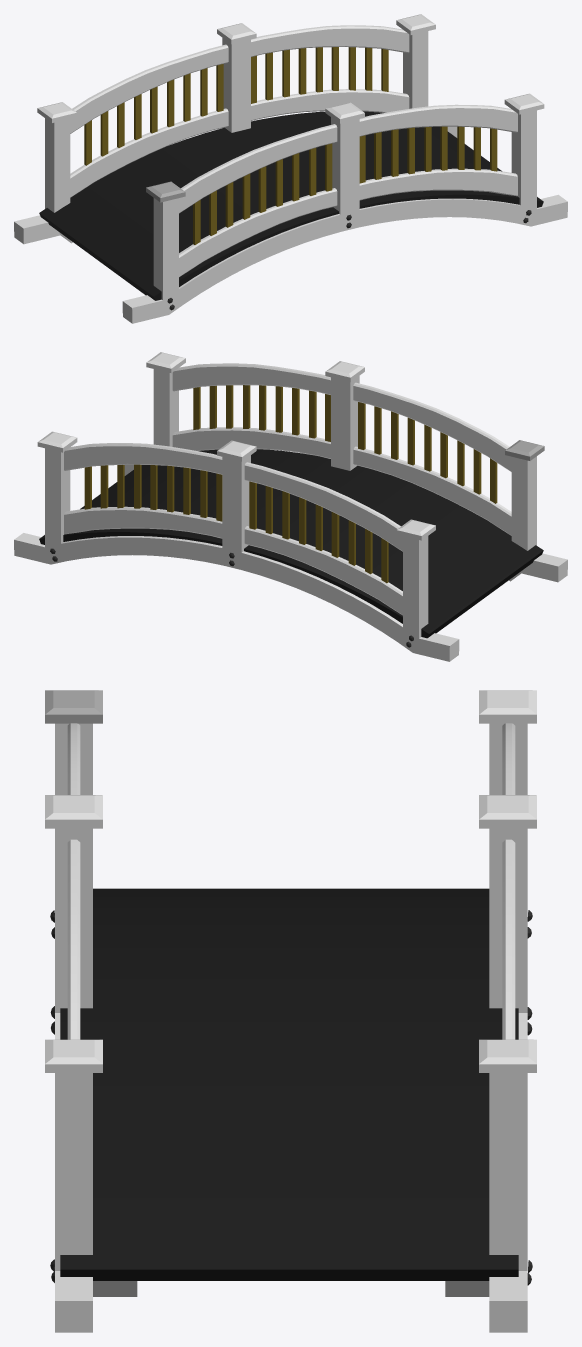
Rendered from bridgey3_cowgame.fbx.
The picture shows the model from 3 angles, top to bottom: view 1: azimuth 30°, elevation 25°; view 2: azimuth 150°, elevation 25°; view 3: azimuth 270°, elevation 25°; orthographic projection. The views are drawn at different scales.
Visible parts, largest first — view 1: polySurface28; view 2: polySurface28; view 3: polySurface28.
Part boxes in pixels (left/top/right/bottom): polySurface28: left=14, top=14, right=567, bottom=323; polySurface28: left=14, top=352, right=567, bottom=661; polySurface28: left=45, top=690, right=536, bottom=1332.
Size of the model in its own units: 0.2644 by 0.0916 by 0.1292.
